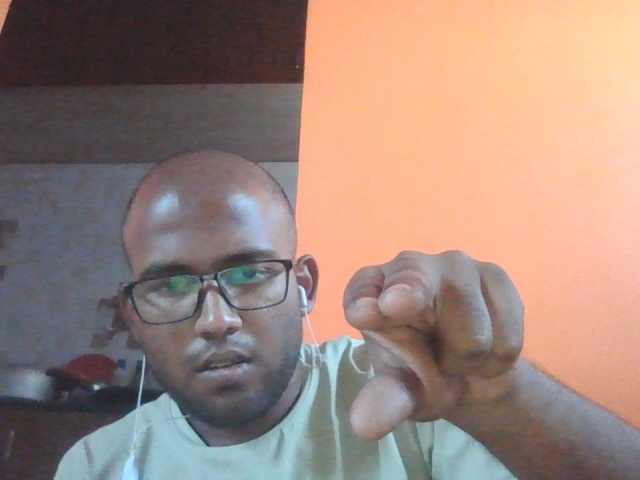no: (324, 243, 584, 454)
